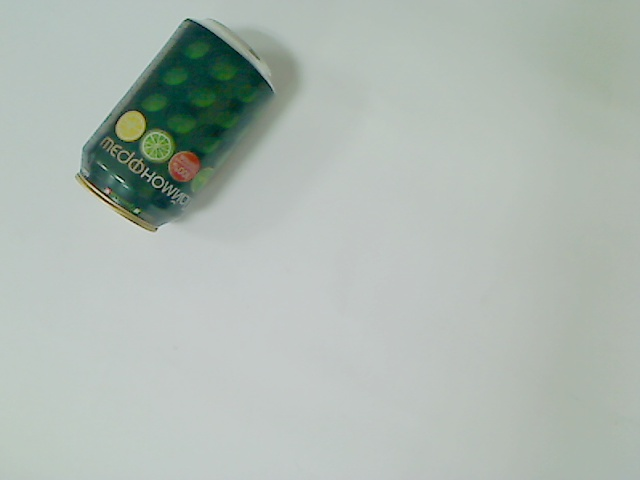can: (69, 15, 280, 237)
